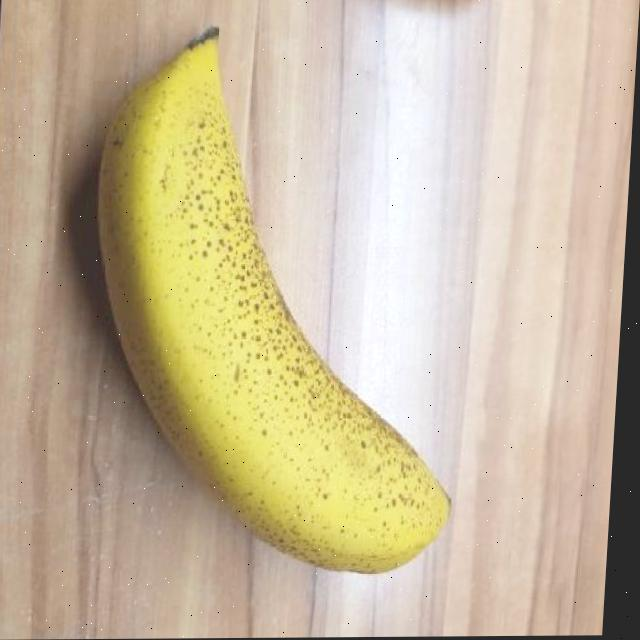banana: (69, 26, 487, 580)
